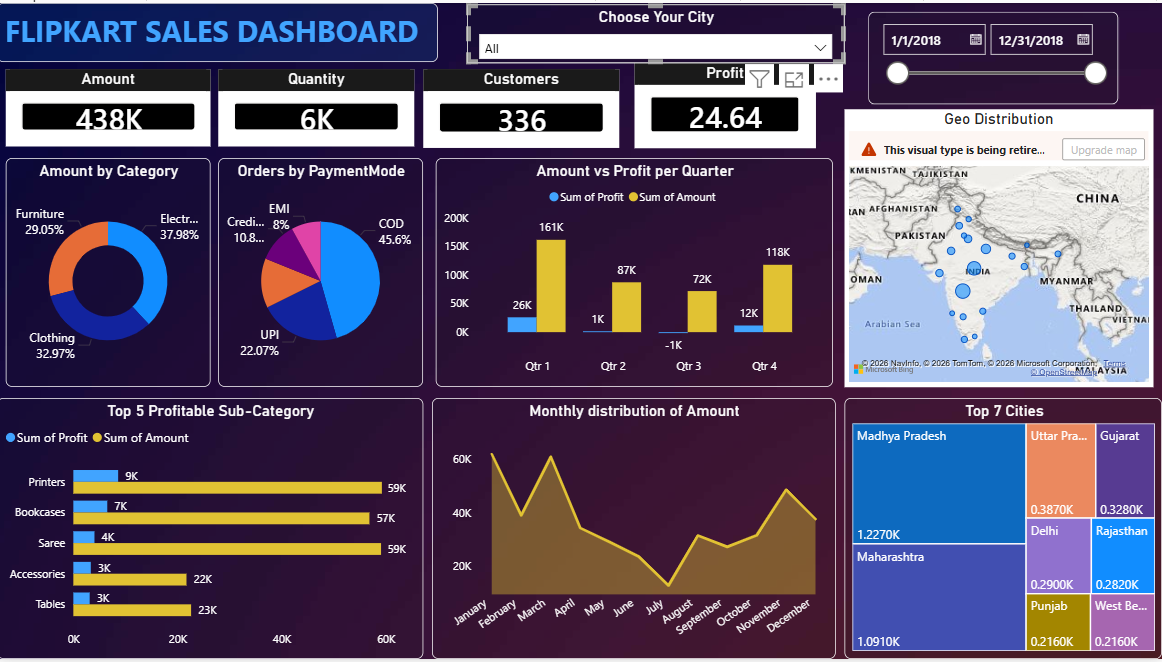

The dashboard page shown, as its layout file describes it:
{"tool":"powerbi","page":{"name":"Page 1","canvas":[1280,720],"ordinal":0},"visuals":[{"type":"textbox","box":[0,0,484.4,64.5],"z":0},{"type":"donutChart","title":"Amount by Category","fields":{"Category":["Details (2).Category"],"Y":["Sum(Details (2).Amount)"]},"box":[9.6,170.2,225,251.1],"z":1000},{"type":"pieChart","title":"Orders by PaymentMode","fields":{"Category":["Details (2).PaymentMode"],"Y":["CountNonNull(Details (2).Order ID)"]},"box":[242.9,170.2,225,251.1],"z":2000},{"type":"clusteredBarChart","title":"Top 5 Profitable  Sub-Category","fields":{"Category":["Details (2).Sub-Category"],"Y":["Sum(Details (2).Profit)","Sum(Details (2).Amount)"]},"box":[0,433.6,467.9,286.8],"z":3000},{"type":"cardVisual","title":"Profit","fields":{"Data":["Details (2).Average profit"]},"box":[699.8,65.9,199,93.3],"z":4000},{"type":"cardVisual","title":"Quantity","fields":{"Data":["Sum(Details (2).Quantity)"]},"box":[242.9,72.7,215.4,85.1],"z":5000},{"type":"cardVisual","title":"Customers","fields":{"Data":["Count(Orders.CustomerName)"]},"box":[467.9,72.7,215.4,86.4],"z":6000},{"type":"cardVisual","title":"Amount","fields":{"Data":["Sum(Details (2).Amount)"]},"box":[9.6,72.7,225,85.1],"z":7000},{"type":"stackedAreaChart","title":"Monthly distribution of Amount","fields":{"Category":["Orders (2).Order Date.Variation.Date Hierarchy.Month"],"Y":["Sum(Details (2).Amount)"]},"box":[477.5,433.6,443.2,286.8],"z":8000},{"type":"clusteredColumnChart","title":"Amount vs Profit per Quarter","fields":{"Category":["Orders (2).Order Date.Variation.Date Hierarchy.Quarter"],"Y":["Sum(Details (2).Profit)","Sum(Details (2).Amount)"]},"box":[481.6,170.2,436.4,251.1],"z":9000},{"type":"map","title":"Geo Distribution","fields":{"Category":["Orders (2).State"],"Size":["Sum(Details (2).Amount)"]},"box":[930.4,116.6,338.9,304.6],"z":10000},{"type":"treemap","title":"Top 7 Cities","fields":{"Group":["Orders (2).State"],"Values":["Sum(Details (2).Quantity)"]},"box":[930.4,433.6,349.9,286.8],"z":11000},{"type":"slicer","title":"Choose Your City","fields":{"Values":["Orders (2).City"]},"box":[516,1.4,414.4,64.5],"z":13000},{"type":"slicer","title":"ORDER DATE","fields":{"Values":["Orders (2).Order Date"]},"box":[956.4,9.6,274.4,101.5],"z":13001}]}

Visuals, with their boxes in screenshot pixels (x1, y1, x2, y2), scaled from the page's 1280x720 canvas onto the 1162x662 screenshot:
textbox: x1=0, y1=0, x2=440, y2=59
"Amount by Category" donutChart: x1=9, y1=156, x2=213, y2=387
"Orders by PaymentMode" pieChart: x1=221, y1=156, x2=425, y2=387
"Top 5 Profitable  Sub-Category" clusteredBarChart: x1=0, y1=399, x2=425, y2=661
"Profit" cardVisual: x1=635, y1=61, x2=816, y2=146
"Quantity" cardVisual: x1=221, y1=67, x2=416, y2=145
"Customers" cardVisual: x1=425, y1=67, x2=620, y2=146
"Amount" cardVisual: x1=9, y1=67, x2=213, y2=145
"Monthly distribution of Amount" stackedAreaChart: x1=433, y1=399, x2=836, y2=661
"Amount vs Profit per Quarter" clusteredColumnChart: x1=437, y1=156, x2=833, y2=387
"Geo Distribution" map: x1=845, y1=107, x2=1152, y2=387
"Top 7 Cities" treemap: x1=845, y1=399, x2=1161, y2=661
"Choose Your City" slicer: x1=468, y1=1, x2=845, y2=61
"ORDER DATE" slicer: x1=868, y1=9, x2=1117, y2=102
